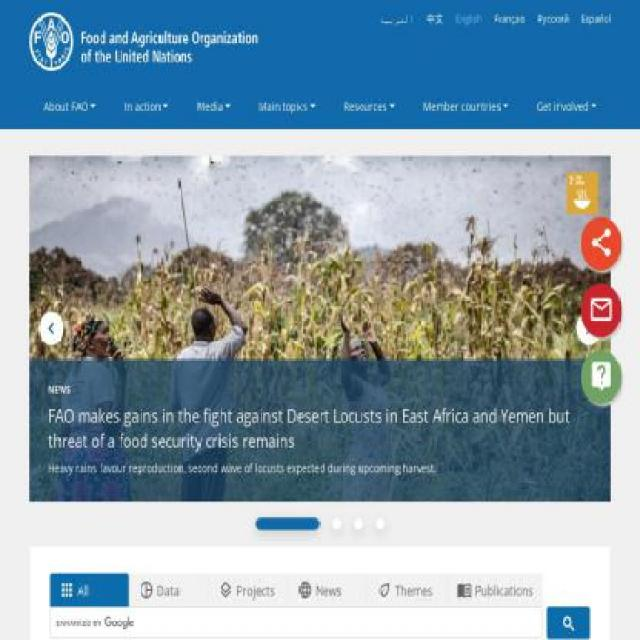button: (424, 83, 508, 129), (536, 83, 598, 129), (258, 83, 316, 129), (43, 83, 97, 129), (343, 83, 395, 129), (124, 83, 168, 129), (195, 83, 231, 129), (547, 607, 590, 639), (59, 580, 119, 602), (39, 312, 64, 346), (576, 312, 601, 346)
field: (56, 612, 515, 634)
